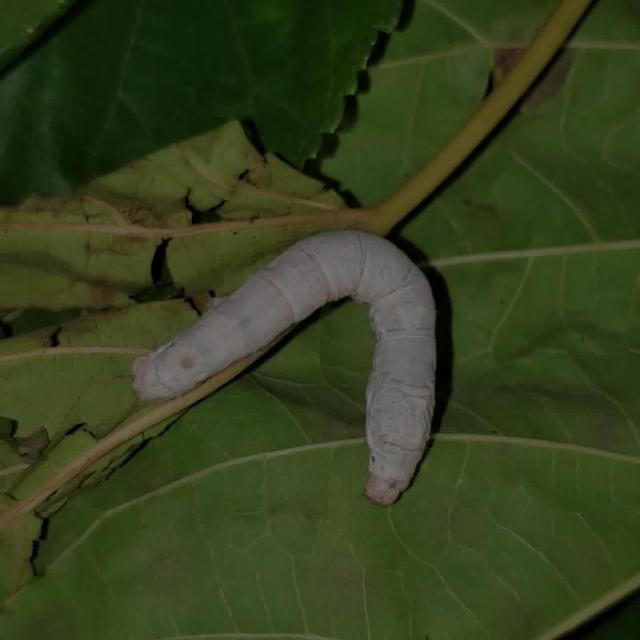Healthy: (124, 221, 452, 511)
